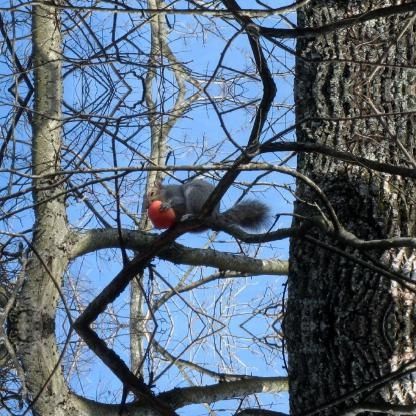Squirrel: (148, 178, 272, 240)
